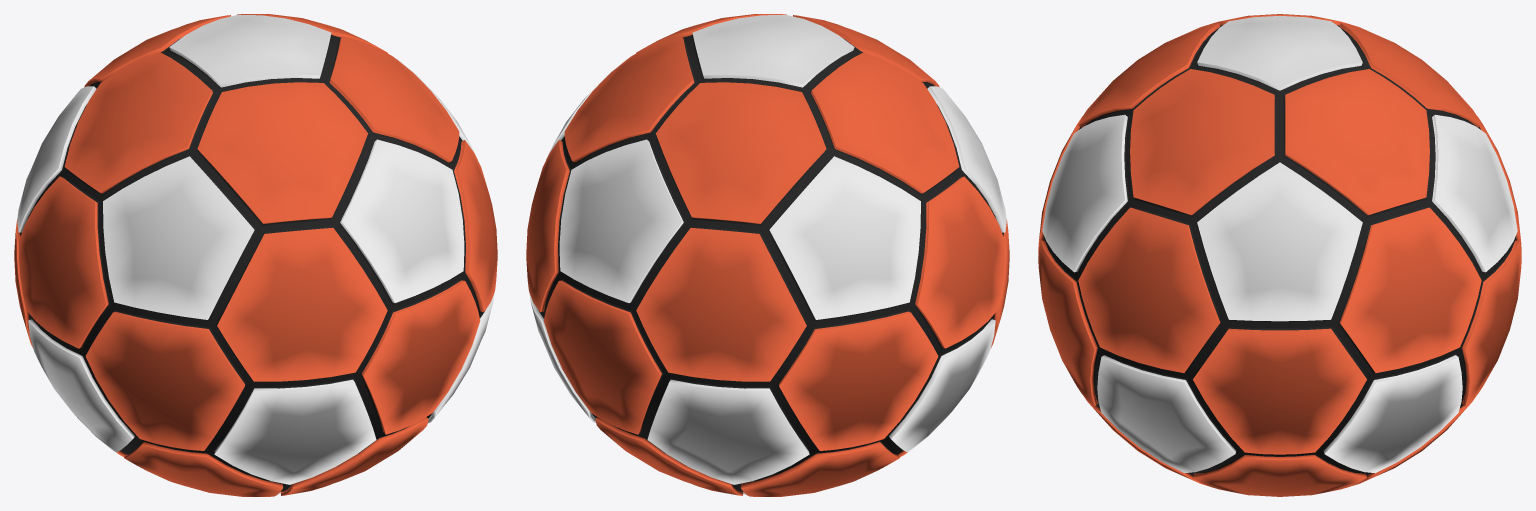
Rendered from SCball.glb.
3 views of the same model, side by side, from view 1: azimuth 30°, elevation 25°; view 2: azimuth 150°, elevation 25°; view 3: azimuth 270°, elevation 25° (orthographic).
Parts seen in each view (by area): view 1: ICO球; view 2: ICO球; view 3: ICO球.
Part boxes in pixels (x1,y1,x2,y2): ICO球: (14, 14, 497, 496); ICO球: (526, 14, 1009, 496); ICO球: (1038, 14, 1521, 496).
Size of the model in its own units: 1.68 by 1.68 by 1.68.
